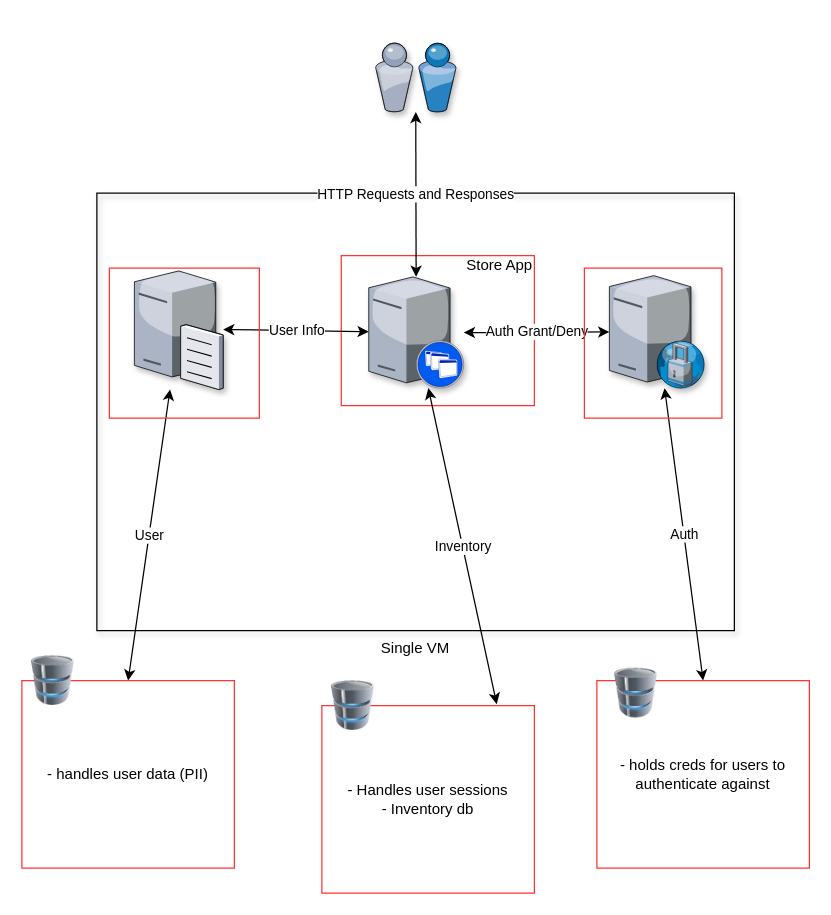
Some shapes in this 831 by 915 pixel diagram are drawn without their labels. Each missing label, with the centre of its shape:
"Auth Server" goes at point 658,333.
"User Server" goes at point 179,330.
"Users" goes at point 416,79.
